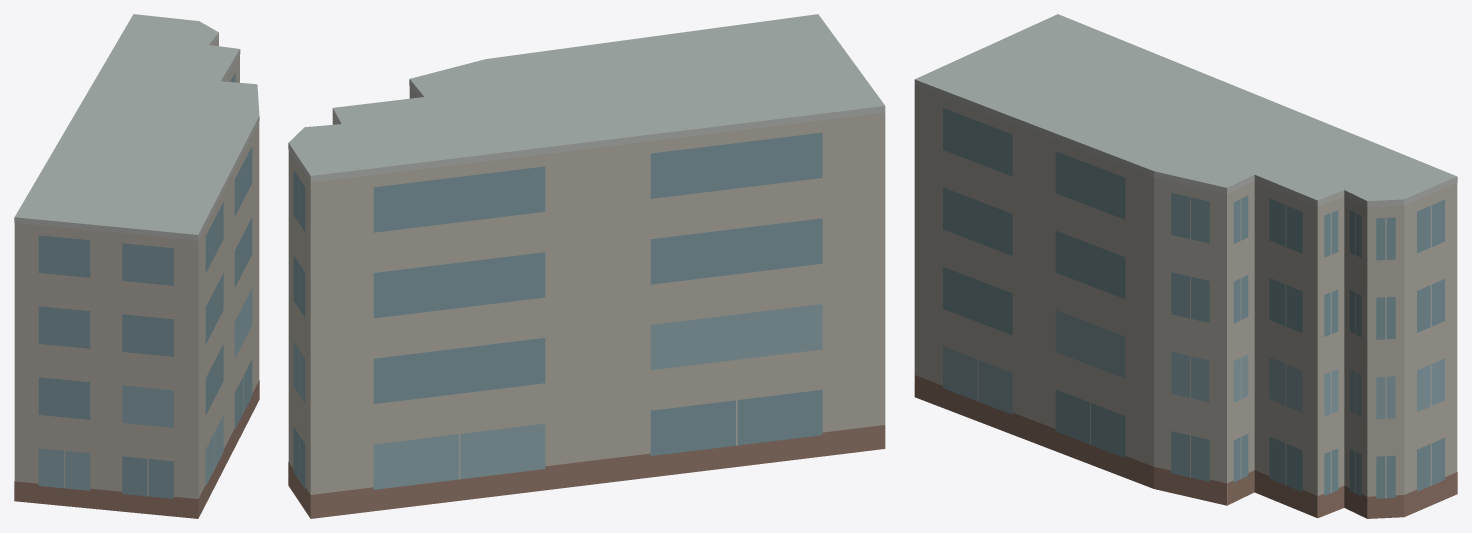
Rendered from survey-upis-32893776.glb.
3 views of the same model, side by side, from view 1: azimuth 30°, elevation 25°; view 2: azimuth 150°, elevation 25°; view 3: azimuth 270°, elevation 25° (orthographic). The views are drawn at different scales.
Parts seen in each view (by area): view 1: survey-upis-32893776.tmp; view 2: survey-upis-32893776.tmp; view 3: survey-upis-32893776.tmp.
Boxes of the visible parts, x1,y1,x2,y2 form: survey-upis-32893776.tmp: (14,14,259,518); survey-upis-32893776.tmp: (288,14,885,518); survey-upis-32893776.tmp: (914,14,1457,518).
Size of the model in its own units: 15.93 by 12.6 by 19.52.
